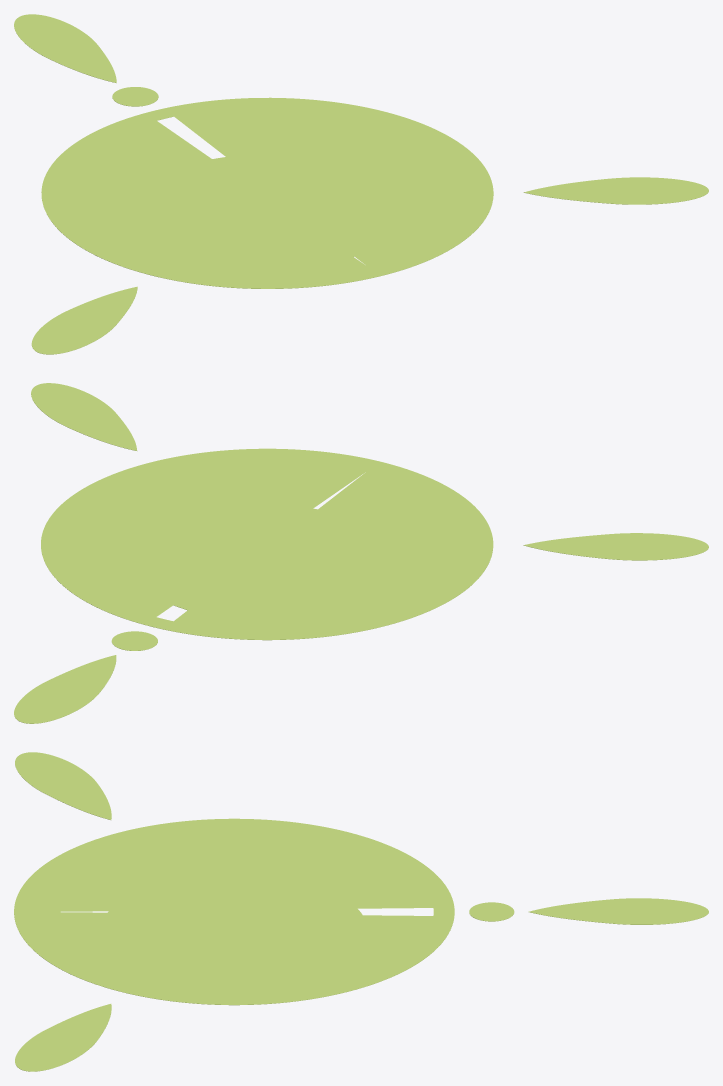
File: Nonomi.fbx
3 renders of one model, top to bottom at view 1: azimuth 30°, elevation 25°; view 2: azimuth 150°, elevation 25°; view 3: azimuth 270°, elevation 25°, orthographic. The views are drawn at different scales.
Parts seen in each view (by area): view 1: Circle.002; view 2: Circle.002; view 3: Circle.002.
Boxes of the visible parts, bbox=[...] form: Circle.002: bbox=[14, 14, 708, 354]; Circle.002: bbox=[14, 383, 708, 723]; Circle.002: bbox=[14, 752, 708, 1071].
Bounding box in the file's own units: 52.71 × 1.42 × 48.49.
